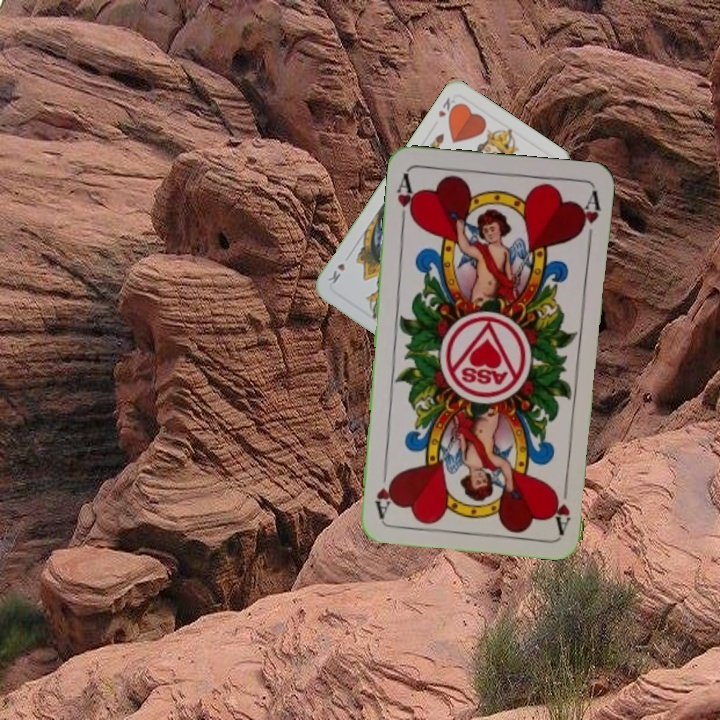HA: (393, 169, 419, 229), (549, 475, 574, 535)
HK: (434, 93, 460, 121)
